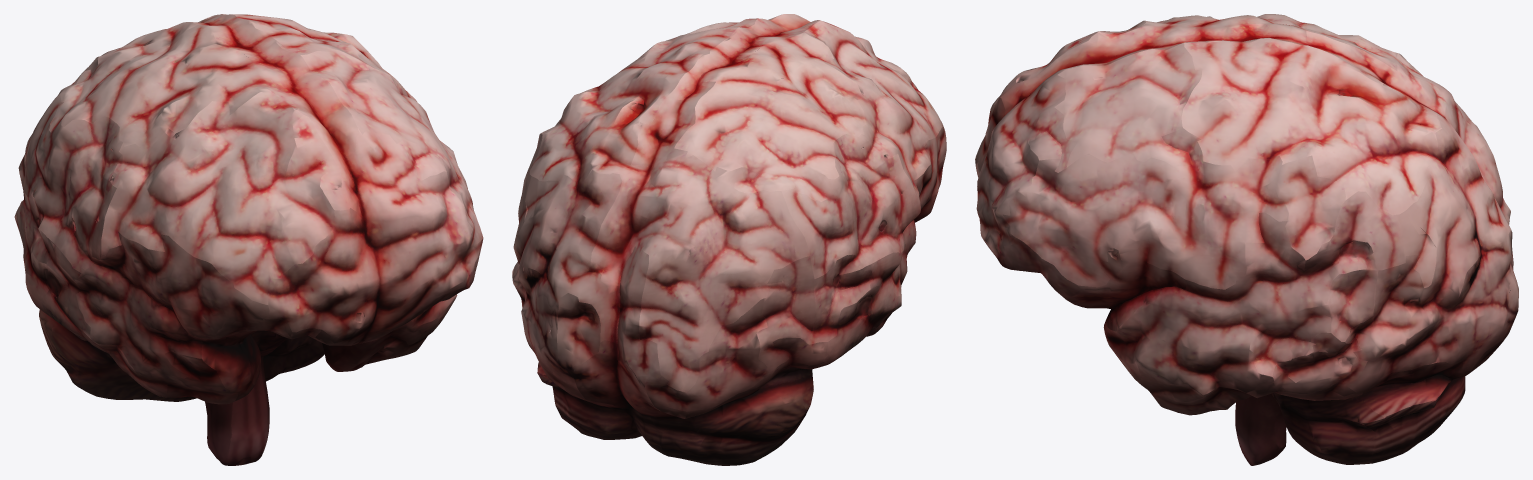
Rendered from sample(1).gltf.
3 renders of one model, left to right at view 1: azimuth 30°, elevation 25°; view 2: azimuth 150°, elevation 25°; view 3: azimuth 270°, elevation 25°, orthographic. The views are drawn at different scales.
Parts seen in each view (by area): view 1: world; view 2: world; view 3: world.
Part boxes in pixels (x1,y1,x2,y2): world: (14, 14, 483, 465); world: (512, 14, 946, 465); world: (975, 14, 1518, 465).
Size of the model in its own units: 0.778 by 0.872 by 0.9991.
1 material, 1 textured.
